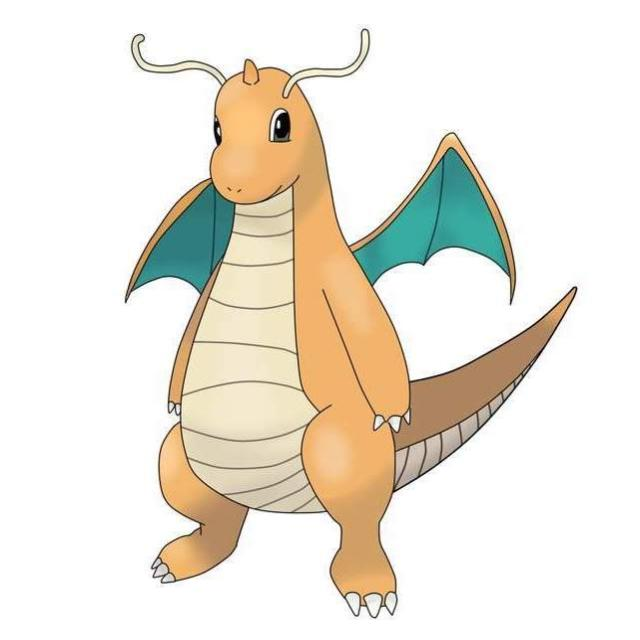Dragonite: (124, 54, 468, 528)
